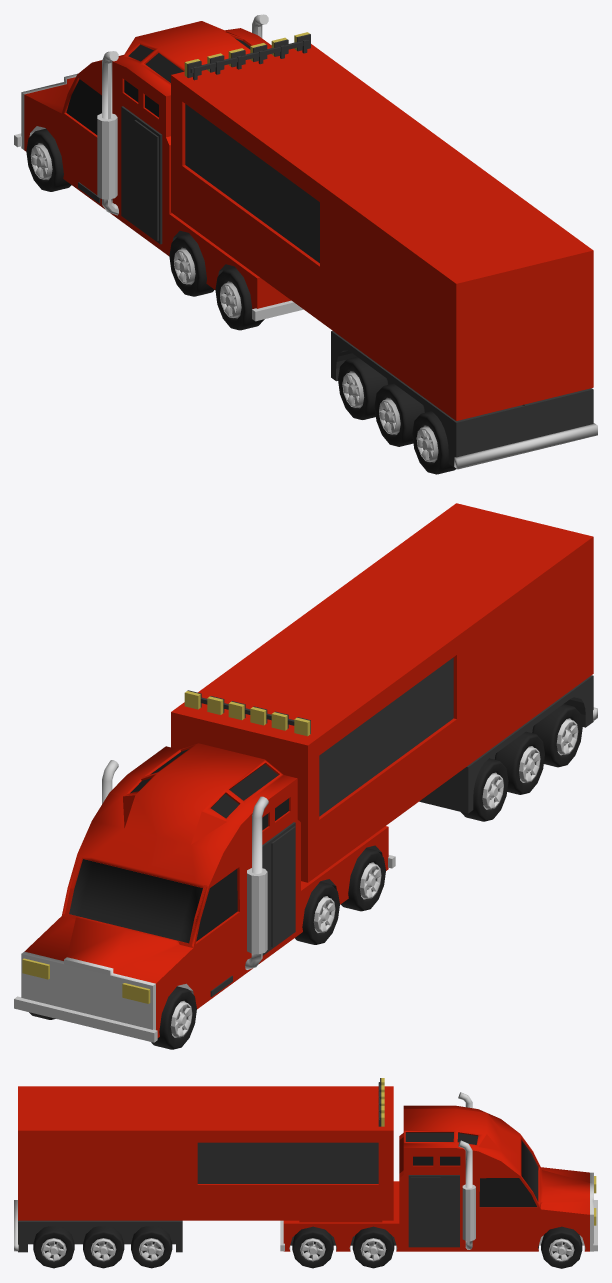
Rendered from HeavyTruck(Door).fbx.
3 views of the same model, one above another, from view 1: azimuth 30°, elevation 25°; view 2: azimuth 150°, elevation 25°; view 3: azimuth 270°, elevation 25° (orthographic). The views are drawn at different scales.
Visible parts, largest first — view 1: Cube_004, Cube_005, Cube_005.003, Cylinder_023, Cylinder_022, Cylinder_029, Cylinder_030, Cylinder_028, Cylinder_021; view 2: Cube_004, Cube_005, Cube_005.003, Cylinder_021, Cylinder_023, Cylinder_028, Cylinder_029, Cylinder_030, Cylinder_022; view 3: Cube_004, Cube_005, Cube_005.002, Cylinder_025, Cylinder_024, Cylinder_020, Cylinder_031, Cylinder_026, Cylinder_027.
Boxes of the visible parts, x1,y1,x2,y2 form: Cube_004: [171, 32, 597, 469]; Cube_005: [14, 14, 303, 321]; Cube_005.003: [61, 74, 110, 213]; Cylinder_023: [374, 383, 424, 446]; Cylinder_022: [338, 357, 388, 419]; Cylinder_029: [169, 233, 214, 296]; Cylinder_030: [26, 128, 71, 191]; Cylinder_028: [215, 267, 264, 330]; Cylinder_021: [412, 411, 455, 474]; Cube_004: [171, 503, 597, 882]; Cube_005: [14, 743, 395, 1042]; Cube_005.003: [188, 863, 241, 1009]; Cylinder_021: [532, 704, 582, 767]; Cylinder_023: [494, 731, 544, 794]; Cylinder_028: [341, 848, 385, 911]; Cylinder_029: [295, 881, 339, 944]; Cylinder_030: [151, 986, 196, 1049]; Cylinder_022: [461, 758, 508, 821]; Cube_004: [14, 1078, 393, 1252]; Cube_005: [280, 1092, 597, 1251]; Cube_005.002: [476, 1175, 540, 1251]; Cylinder_025: [131, 1226, 172, 1268]; Cylinder_024: [83, 1226, 124, 1268]; Cylinder_020: [33, 1226, 74, 1268]; Cylinder_031: [541, 1226, 582, 1268]; Cylinder_026: [352, 1226, 394, 1268]; Cylinder_027: [292, 1226, 333, 1268].
Size of the model in its own units: 450 by 576 by 2060.
